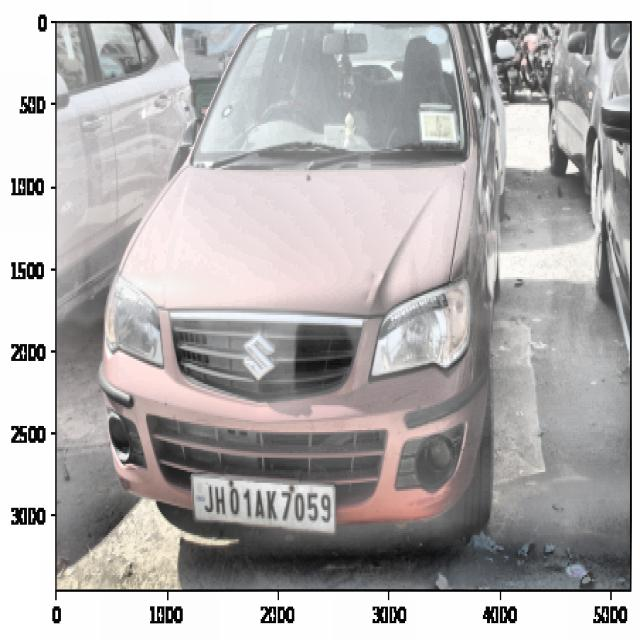license_plate: (200, 475, 336, 529)
